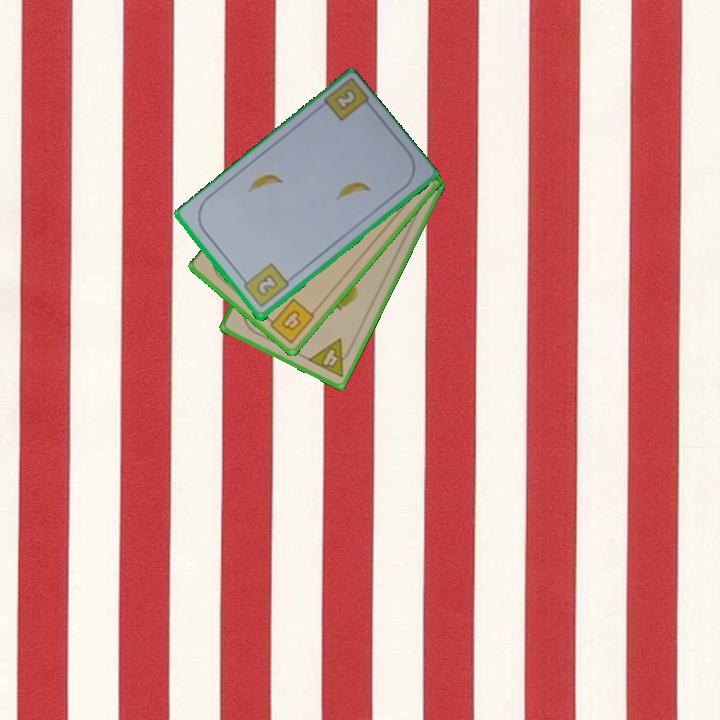2b: (237, 260, 292, 311), (331, 83, 360, 114)
4b: (262, 295, 318, 347)
4p: (304, 335, 356, 380)
